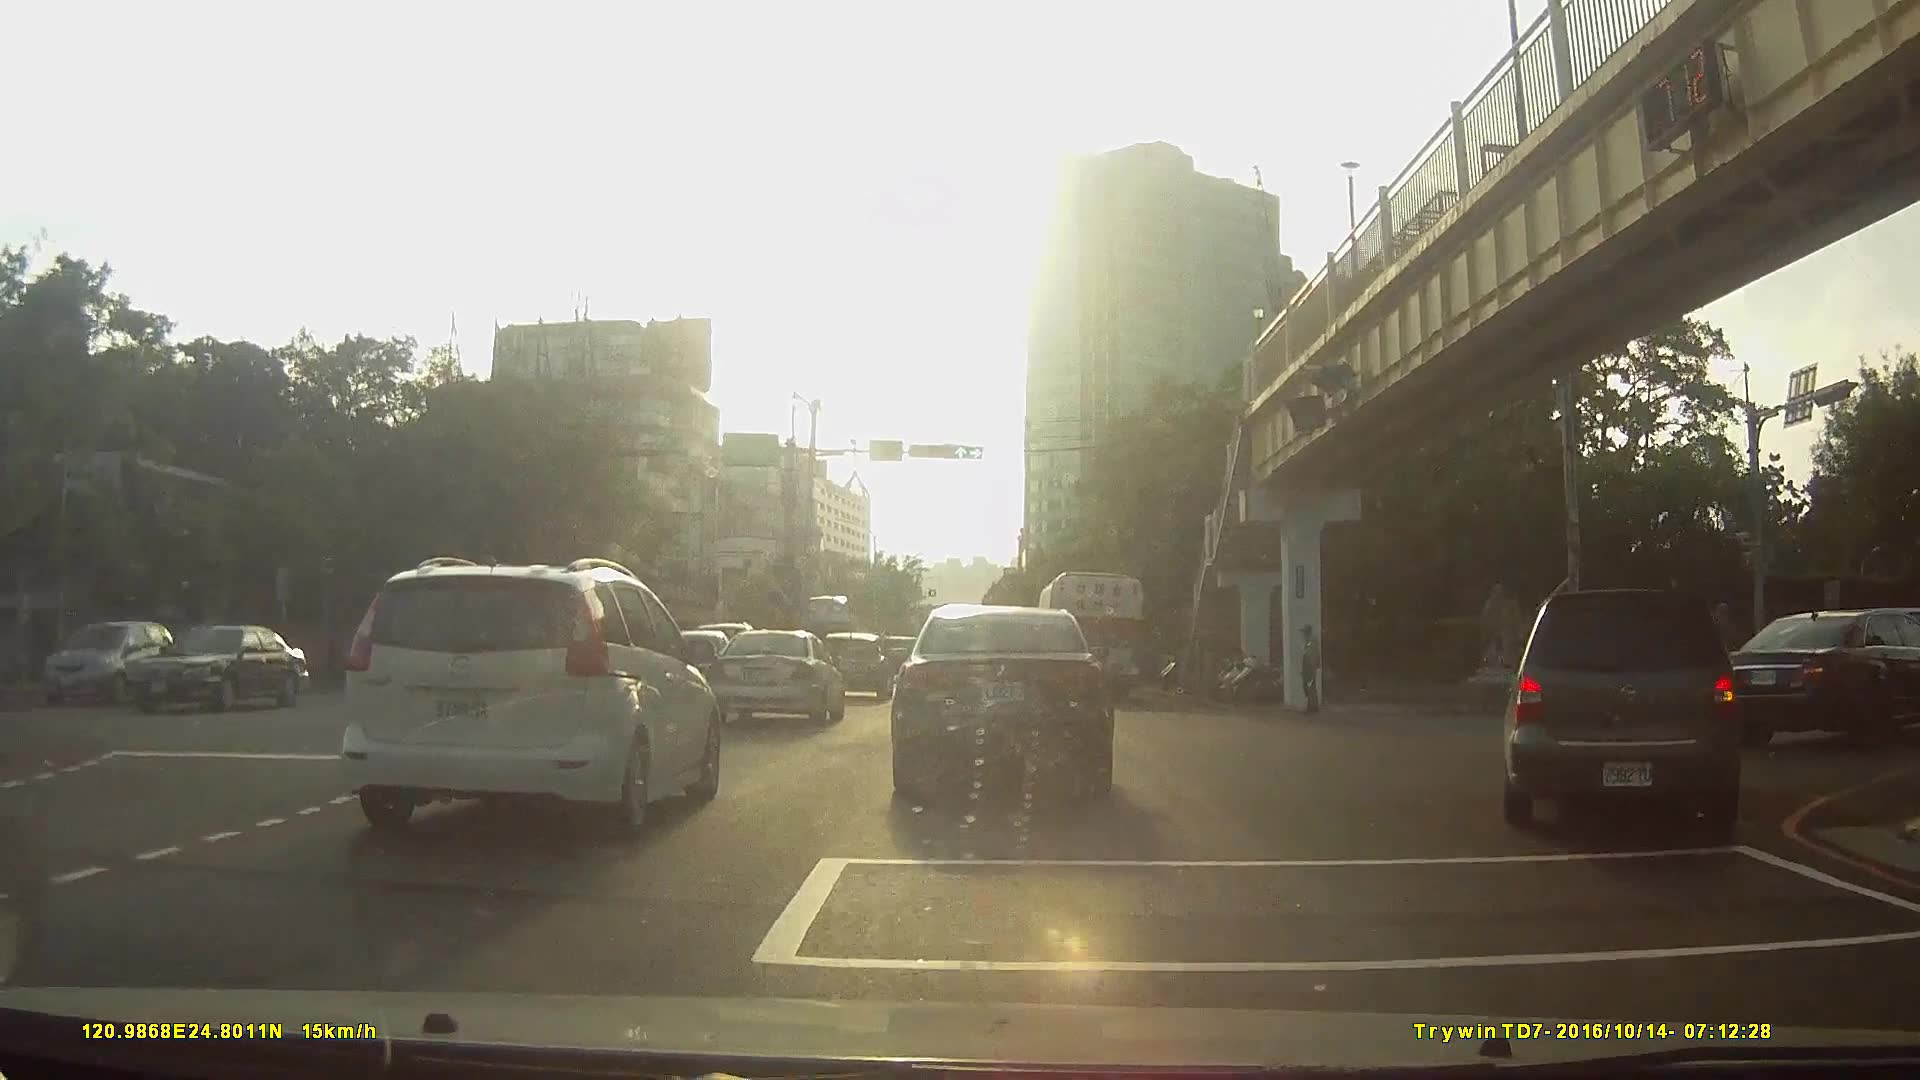pedestrian: (1293, 620, 1331, 720)
vehicle: (339, 552, 721, 838), (1491, 582, 1756, 833), (890, 600, 1112, 807), (1701, 608, 1920, 749), (97, 623, 319, 727), (1033, 569, 1143, 706), (708, 629, 847, 729), (33, 623, 174, 713), (818, 630, 894, 701), (236, 620, 305, 688)
